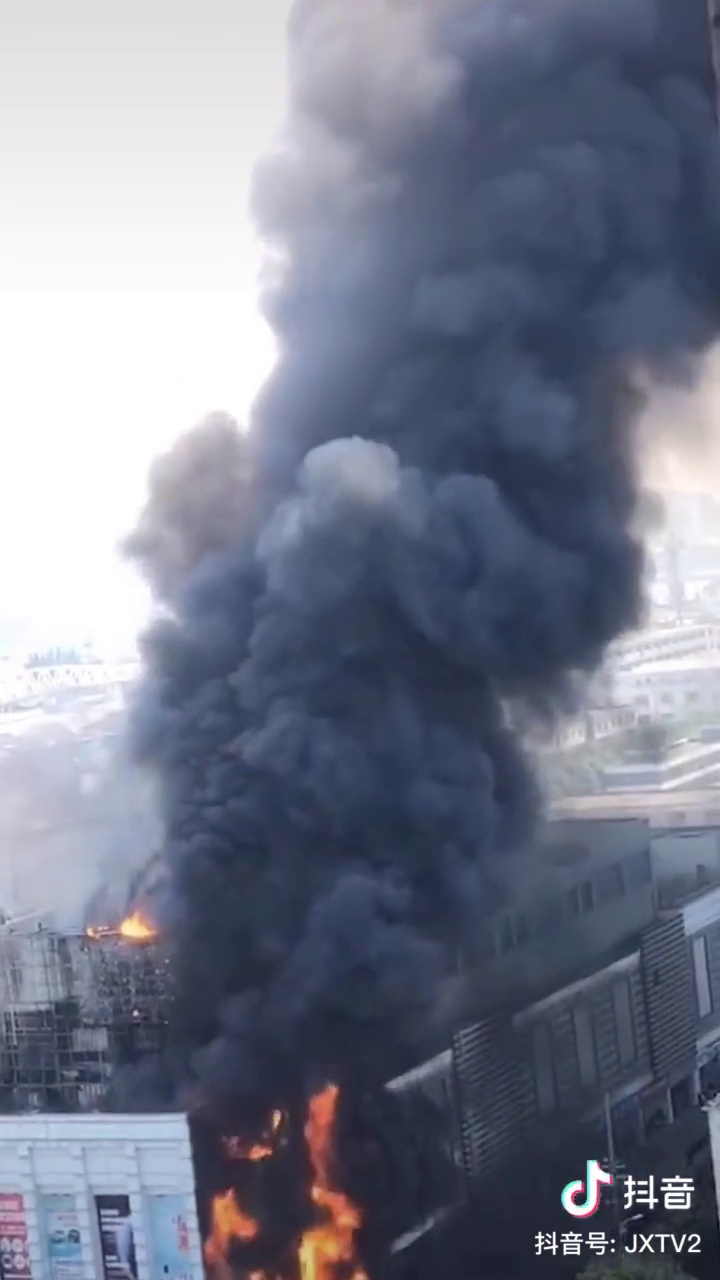fire: (290, 1096, 372, 1273)
yanwu: (182, 49, 666, 1043)
